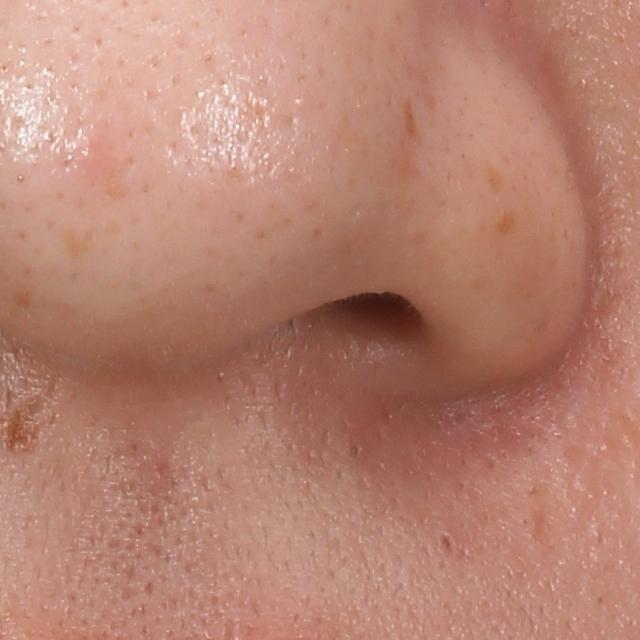atrophic_scar: (1, 405, 37, 451)
comedo: (345, 439, 364, 459)
melasma: (401, 92, 431, 149), (482, 158, 507, 197), (492, 206, 519, 235)
